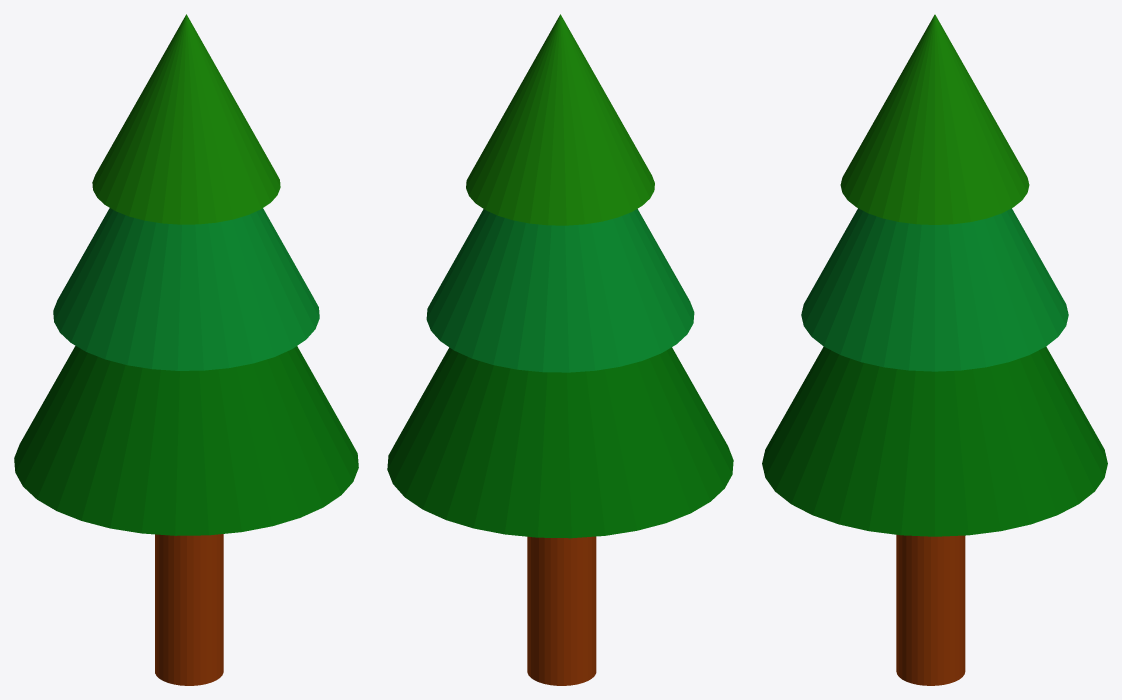
File: Tree1.obj
3 views of the same model, side by side, from view 1: azimuth 30°, elevation 25°; view 2: azimuth 150°, elevation 25°; view 3: azimuth 270°, elevation 25° (orthographic).
Visible parts, largest first — view 1: Cone_003, Cone_002, Cone_001, Cylinder; view 2: Cone_003, Cone_002, Cone_001, Cylinder; view 3: Cone_003, Cone_002, Cone_001, Cylinder.
Part boxes in pixels (x1,y1,x2,y2): Cone_003: [14, 346, 358, 535]; Cone_002: [53, 208, 319, 370]; Cone_001: [92, 14, 280, 224]; Cylinder: [155, 534, 223, 685]; Cone_003: [387, 347, 733, 538]; Cone_002: [426, 209, 694, 372]; Cone_001: [466, 14, 654, 225]; Cylinder: [527, 536, 596, 685]; Cone_003: [762, 346, 1107, 536]; Cone_002: [801, 208, 1068, 371]; Cone_001: [840, 14, 1029, 224]; Cylinder: [896, 534, 965, 685].
Size of the model in its own units: 3.66 by 7.68 by 3.66.
